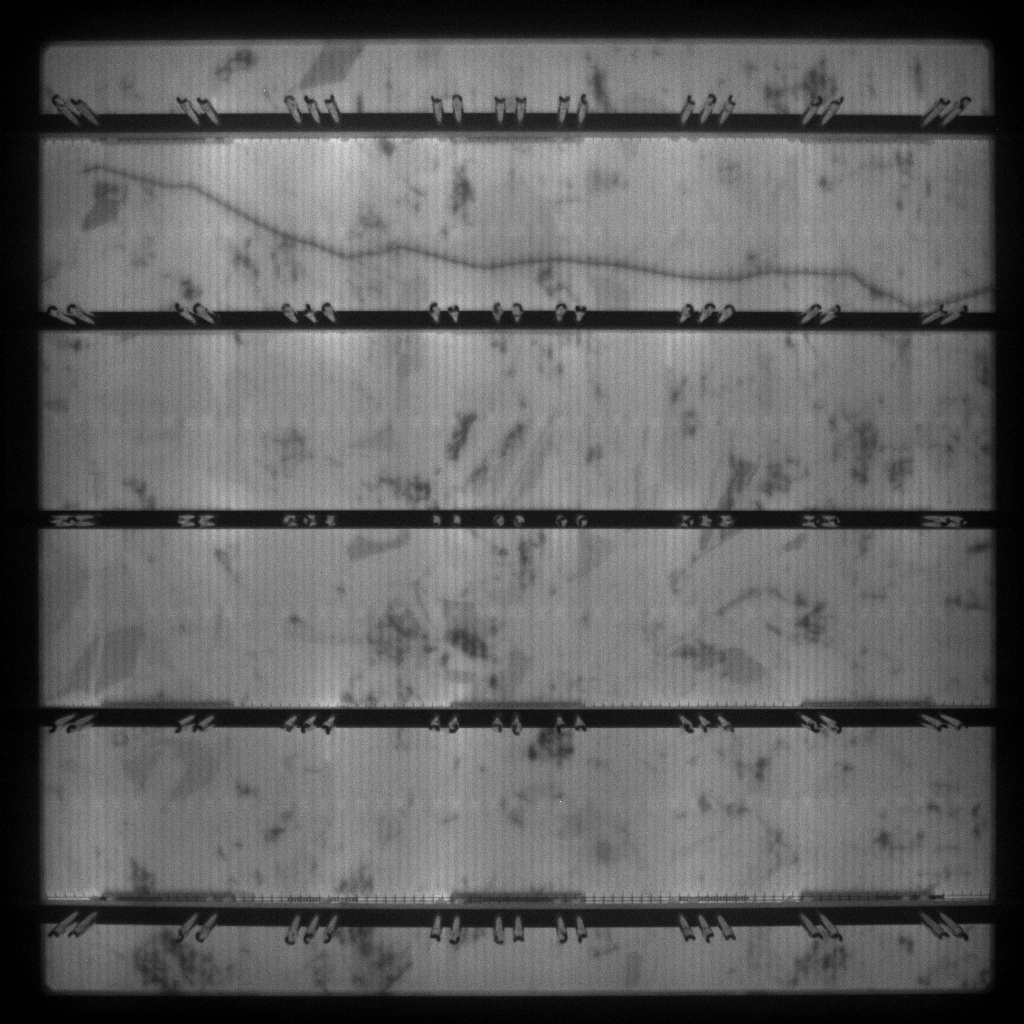crack: (77, 164, 990, 301)
